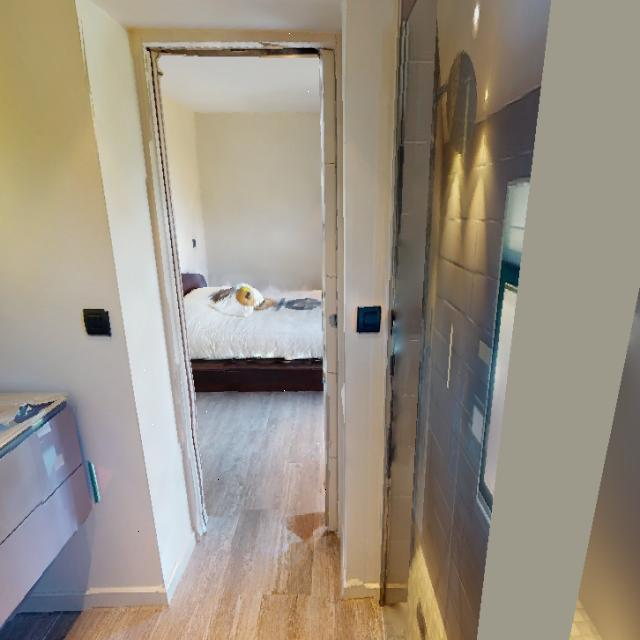bed: (174, 269, 346, 383)
door-frame: (138, 29, 359, 546)
